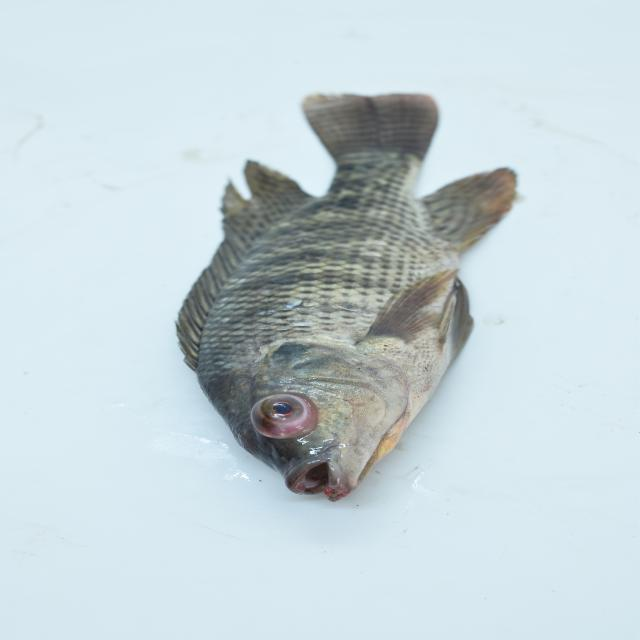Columnaris Disease: (167, 72, 552, 527)
